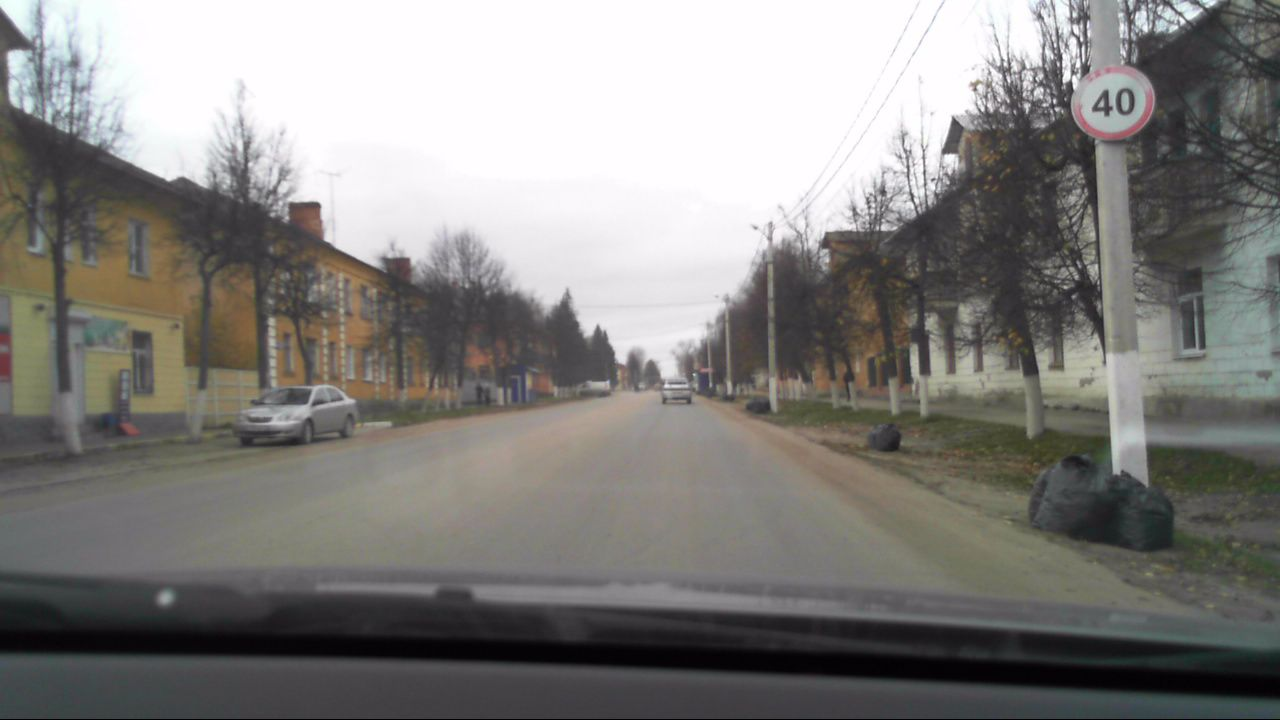speed_warning_40: (1072, 63, 1155, 144)
